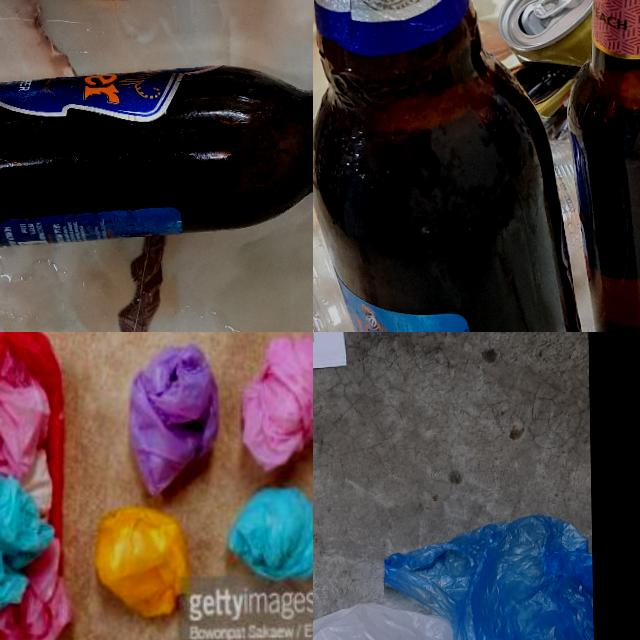garrafa de vidro: (313, 0, 593, 332), (0, 62, 313, 248), (577, 0, 640, 332)
sacola plástica: (313, 460, 598, 640), (0, 332, 83, 640), (103, 332, 235, 514), (96, 491, 205, 640), (228, 332, 313, 464), (224, 484, 313, 599)
